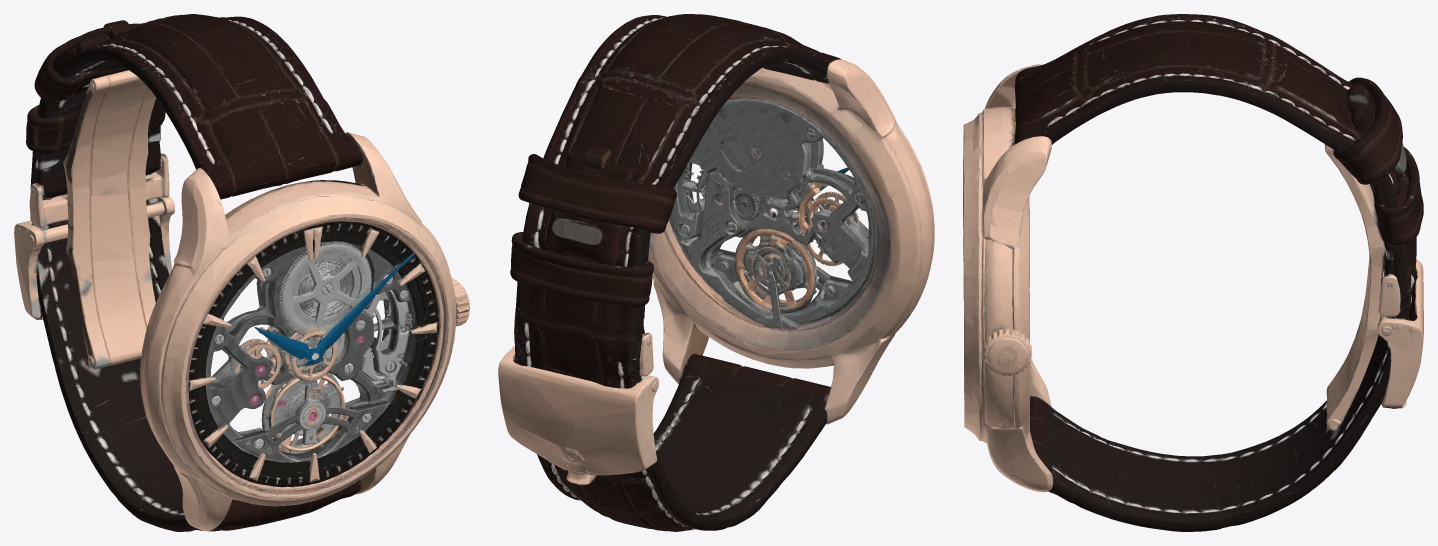
Rendered from watch.glb.
3 renders of one model, left to right at view 1: azimuth 30°, elevation 25°; view 2: azimuth 150°, elevation 25°; view 3: azimuth 270°, elevation 25°, orthographic.
Visible parts, largest first — view 1: Mesh_0; view 2: Mesh_0; view 3: Mesh_0.
Boxes of the visible parts, left/top/right/bottom form: Mesh_0: left=14, top=14, right=469, bottom=531; Mesh_0: left=498, top=14, right=934, bottom=531; Mesh_0: left=963, top=14, right=1423, bottom=531.
Bounding box in the file's own units: 1.33 × 1.9 × 1.68.
Materials: 1 (1 with a texture image).
